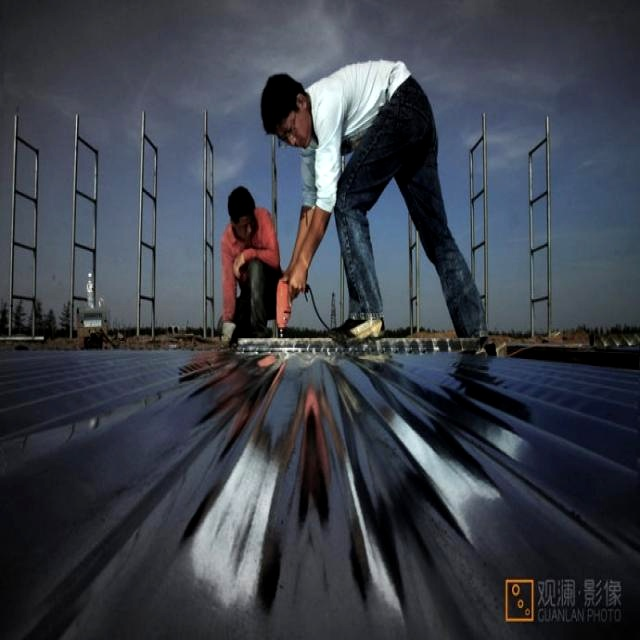Sin_Casco_Mascarrilla: (261, 73, 310, 153), (228, 184, 257, 240)
